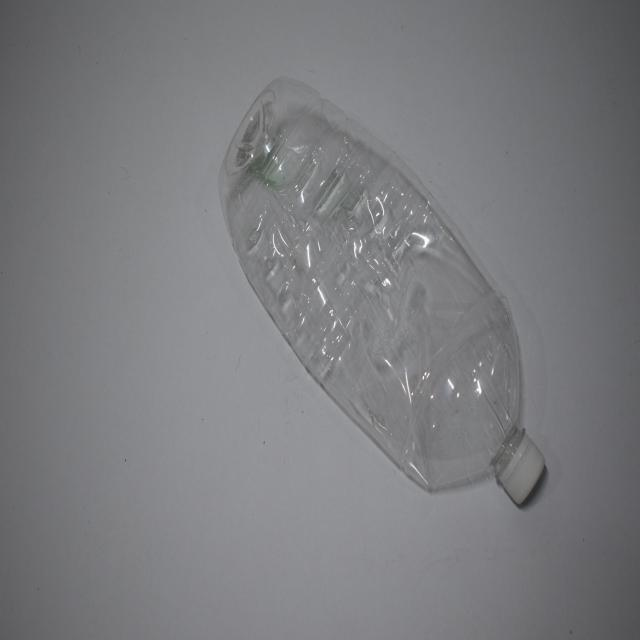empty: (219, 79, 545, 503)
